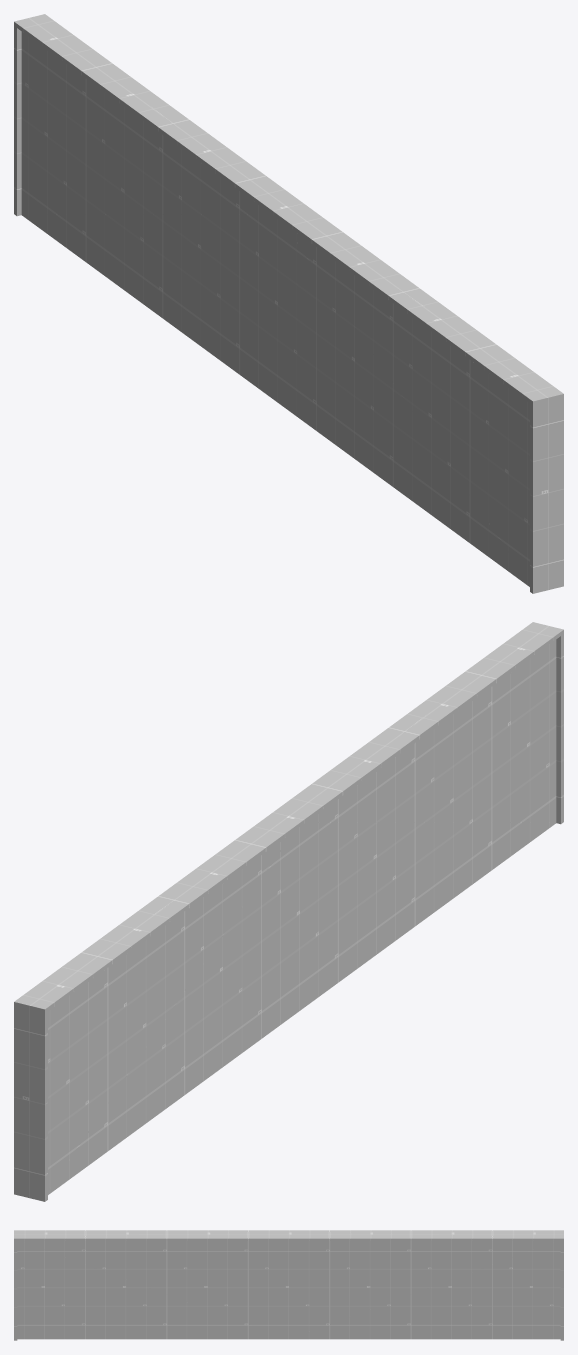
File: SM_Wall_Lego_02.FBX
The picture shows the model from 3 angles, top to bottom: view 1: azimuth 30°, elevation 25°; view 2: azimuth 150°, elevation 25°; view 3: azimuth 270°, elevation 25°; orthographic projection. The views are drawn at different scales.
Visible parts, largest first — view 1: SM_Wall_Lego_02; view 2: SM_Wall_Lego_02; view 3: SM_Wall_Lego_02.
Part boxes in pixels (box(x1,y1,x2,y2)): SM_Wall_Lego_02: box(14, 14, 563, 593); SM_Wall_Lego_02: box(14, 622, 563, 1201); SM_Wall_Lego_02: box(14, 1230, 563, 1340).
Size of the model in its own units: 17.46 by 104 by 506.
